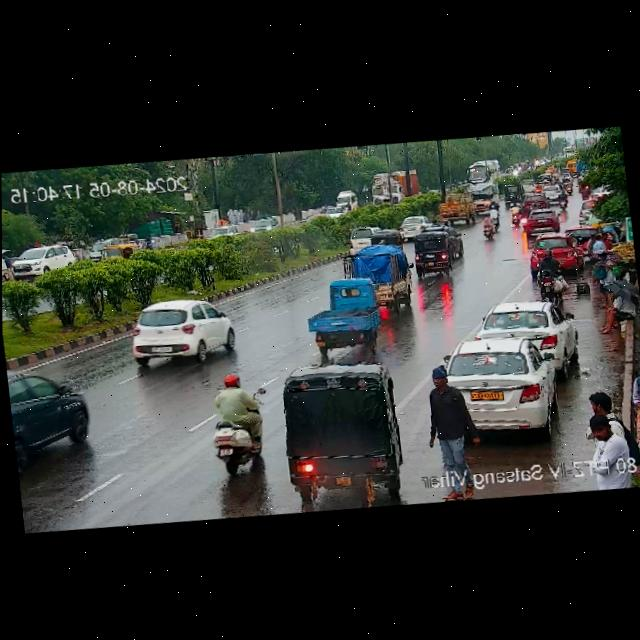bus: (468, 156, 500, 185)
car: (273, 350, 409, 516), (432, 334, 566, 439), (123, 290, 242, 372), (475, 295, 575, 366), (302, 272, 381, 358), (529, 229, 581, 274), (13, 239, 75, 275), (411, 229, 453, 278), (393, 212, 437, 240), (521, 206, 560, 235), (344, 225, 377, 256), (103, 241, 131, 262), (374, 229, 402, 249), (447, 226, 464, 258), (503, 183, 525, 206), (564, 225, 587, 245), (337, 190, 357, 209), (525, 193, 548, 209), (541, 183, 560, 201), (253, 218, 277, 232), (576, 201, 590, 224), (213, 223, 236, 237), (519, 179, 534, 193)
motorcycle: (203, 370, 272, 476), (532, 248, 567, 293), (553, 168, 574, 195), (479, 212, 495, 241), (508, 203, 524, 226), (488, 204, 500, 232), (537, 170, 556, 185), (555, 190, 568, 211), (133, 236, 143, 251), (530, 198, 541, 210)
person: (422, 362, 473, 471), (574, 377, 628, 459), (621, 359, 640, 477), (596, 287, 635, 333), (593, 254, 616, 308), (587, 227, 615, 258)
truck: (7, 354, 106, 459), (370, 240, 417, 307), (369, 166, 419, 206), (437, 187, 475, 226), (469, 180, 500, 210)
